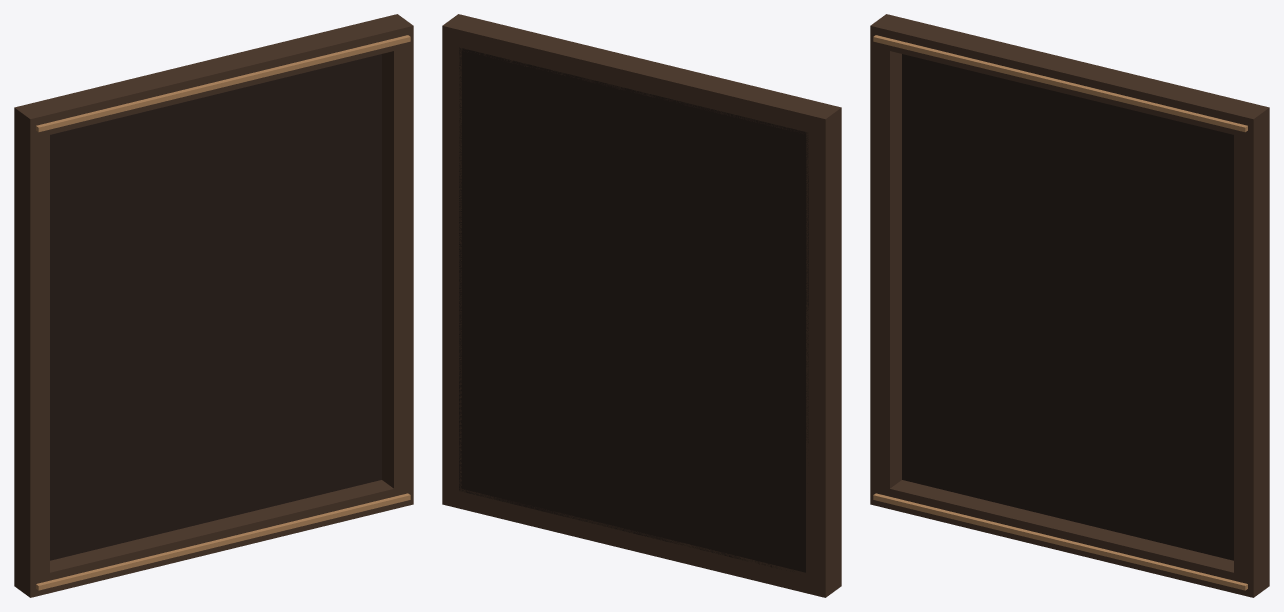
The model's file is painting.glb.
The picture shows the model from 3 angles, left to right: view 1: azimuth 30°, elevation 25°; view 2: azimuth 150°, elevation 25°; view 3: azimuth 330°, elevation 25°; orthographic projection.
Parts seen in each view (by area): view 1: painting; view 2: painting; view 3: painting.
Boxes of the visible parts, x1,y1,x2,y2 form: painting: [14, 14, 413, 597]; painting: [442, 14, 841, 597]; painting: [870, 14, 1269, 597].
Bounding box in the file's own units: 0.687 × 0.82 × 0.058.
